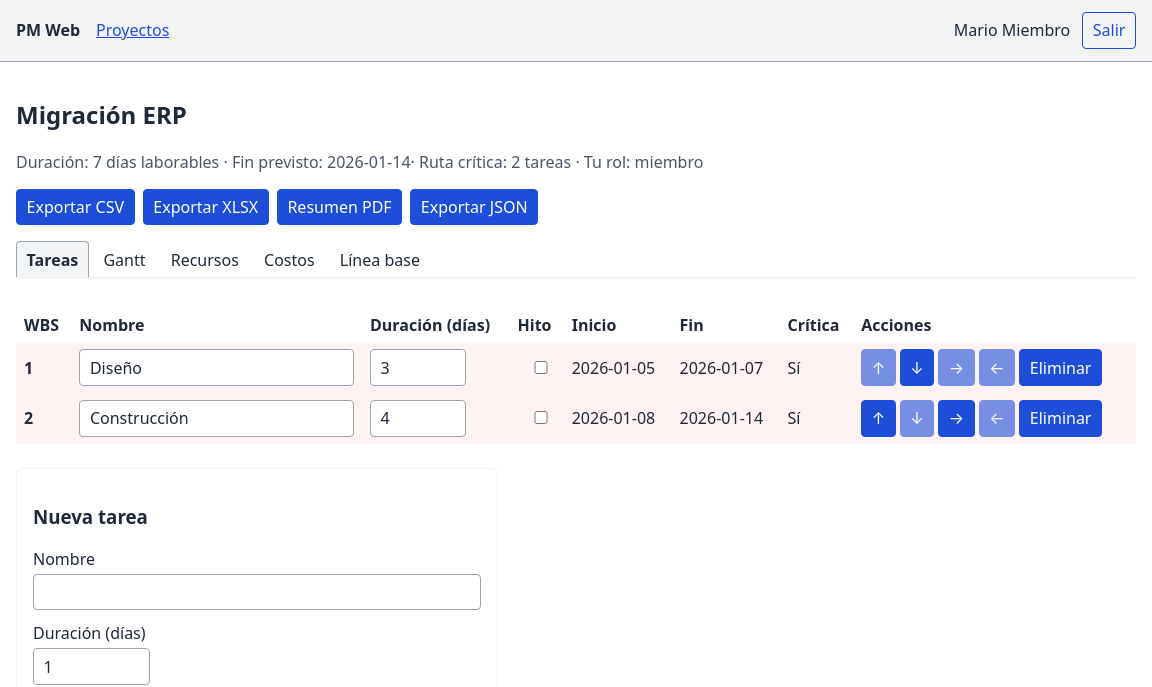
Test: pantalla de proyecto › si otra persona cambió la tarea, avisa y no sobrescribe en silencio
Click the button with aria-label "Eliminar Diseño" at (1061, 368), box [1019,349,1102,386]
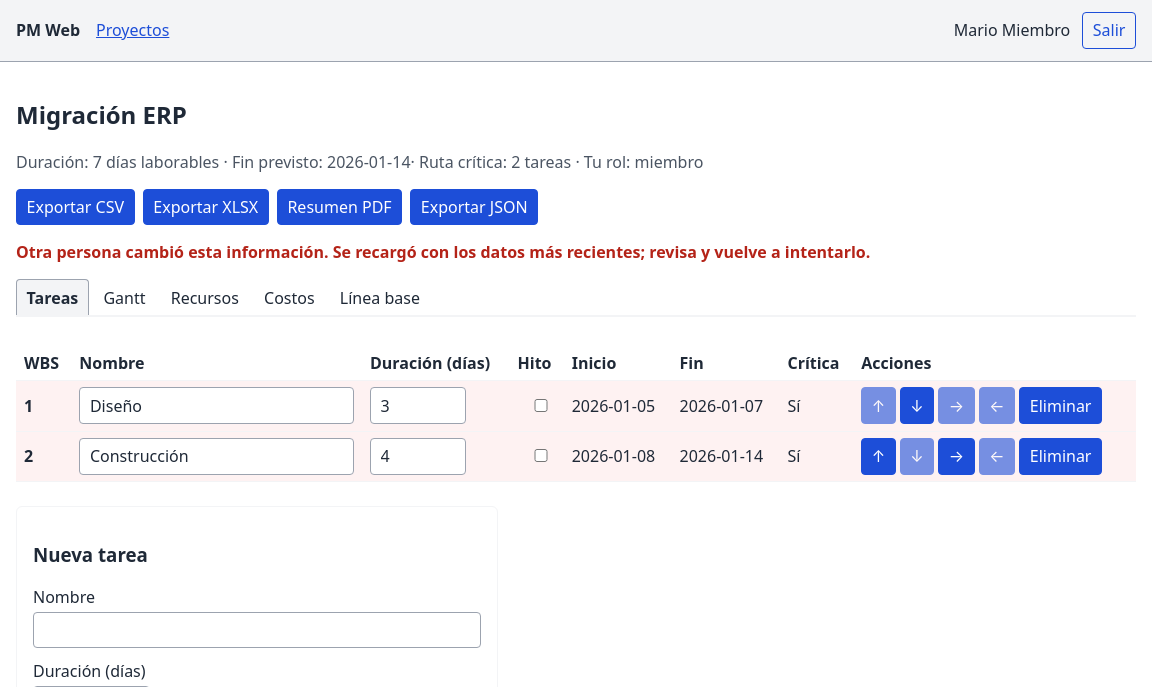
expect the message shows "Otra persona cambió esta información": met, box [16,241,870,263]
